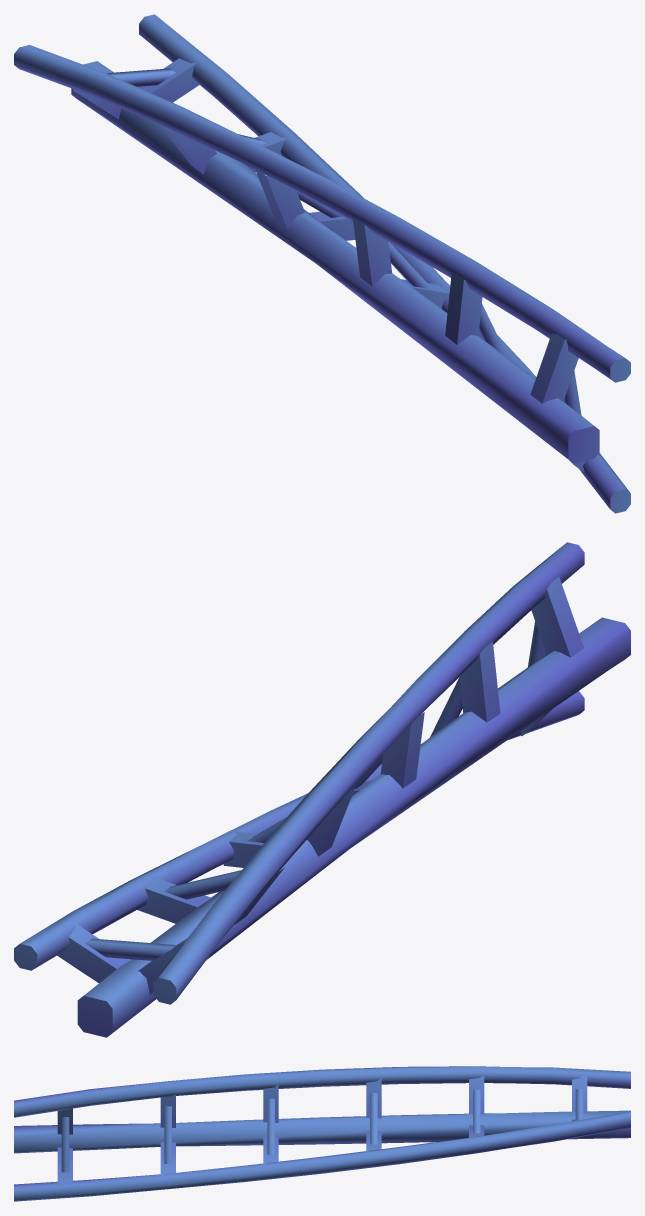
Rendered from kenney-coaster-coaster-steel-straight-skew-left-side.glb.
3 views of the same model, one above another, from view 1: azimuth 30°, elevation 25°; view 2: azimuth 150°, elevation 25°; view 3: azimuth 270°, elevation 25° (orthographic). The views are drawn at different scales.
Parts seen in each view (by area): view 1: coaster-steel-straight-skew-left-side; view 2: coaster-steel-straight-skew-left-side; view 3: coaster-steel-straight-skew-left-side.
Boxes of the visible parts, bbox=[...] form: coaster-steel-straight-skew-left-side: bbox=[14, 14, 630, 513]; coaster-steel-straight-skew-left-side: bbox=[14, 542, 630, 1037]; coaster-steel-straight-skew-left-side: bbox=[14, 1066, 630, 1201].
Bounding box in the file's own units: 0.7945 × 0.7945 × 4.
1 material, 1 textured.
